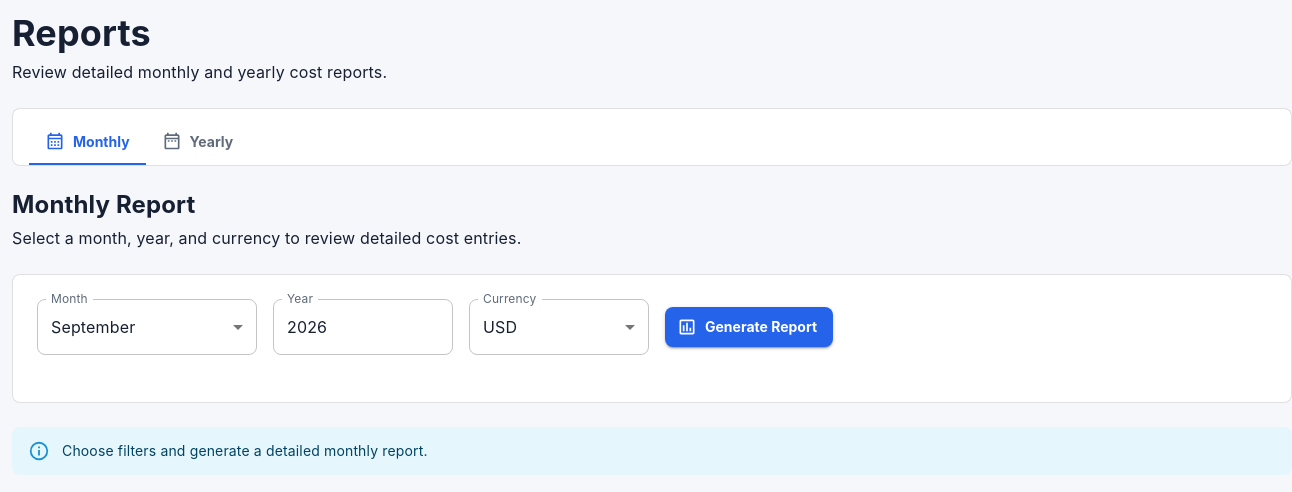
Scenario: ReportsPage › switches to the functional Yearly Report
The image size is (1292, 492).
Click the tab "Yearly" at (197, 142), box x1=146 y1=118 x2=249 y2=166
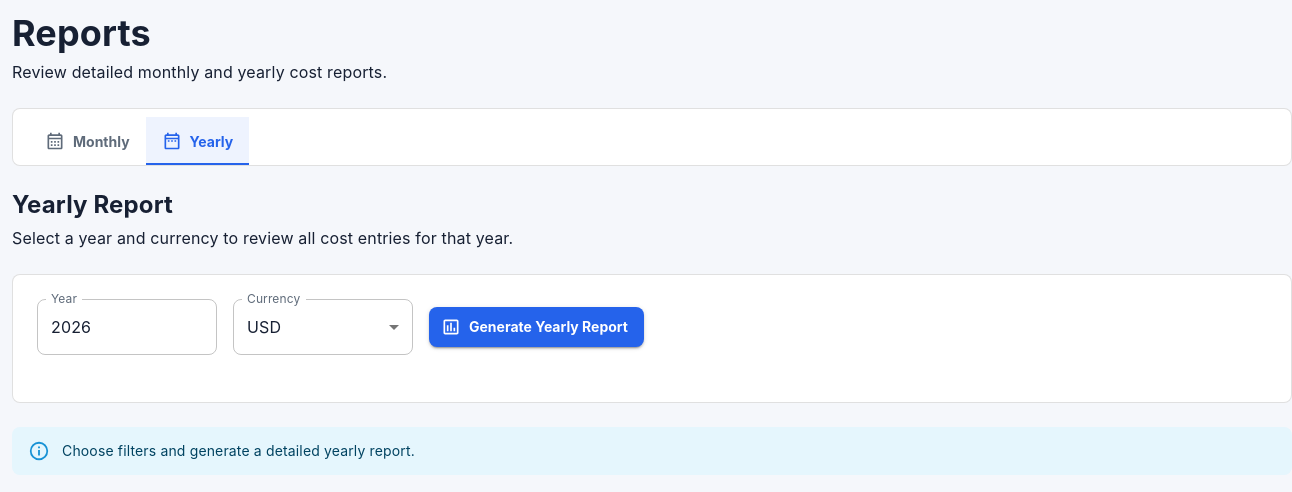
expect the heading "Yearly Report" is shown: met, box x1=12 y1=190 x2=173 y2=220
expect the text "Select a year and currency to review all cost entries for that year." is shown: met, box x1=12 y1=226 x2=513 y2=250
expect the button "Generate Yearly Report" is shown: met, box x1=429 y1=308 x2=644 y2=348
